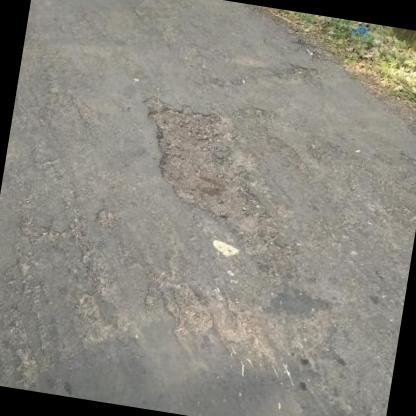pothole: (125, 93, 286, 237), (283, 60, 321, 86)
